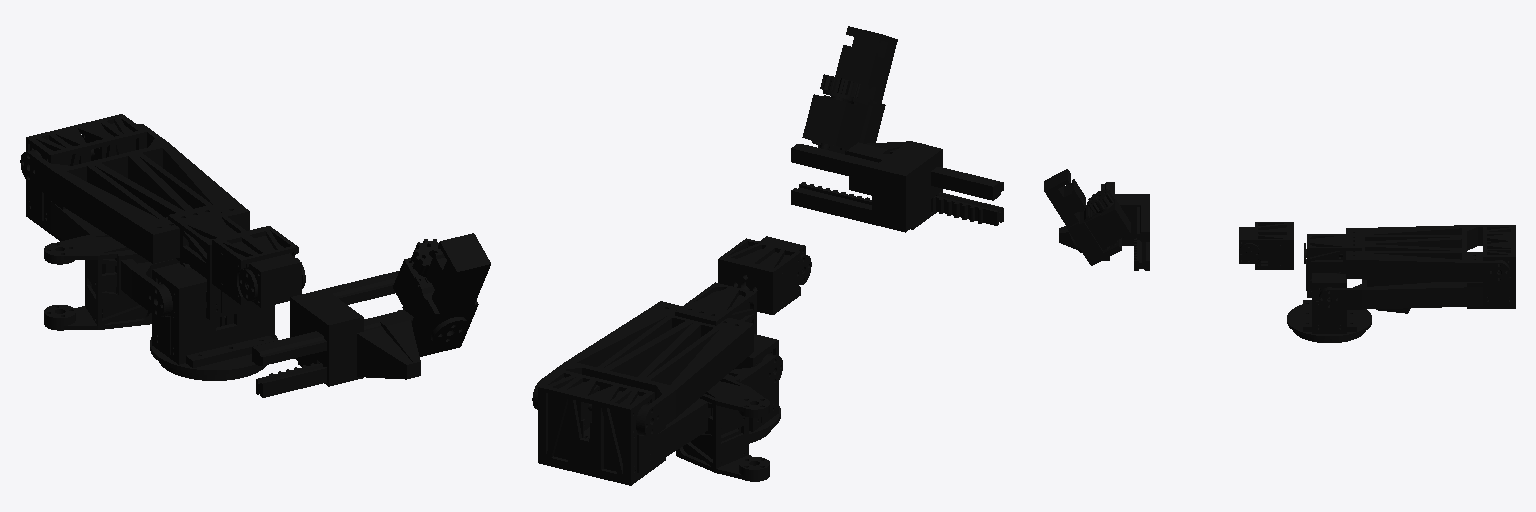
robot.urdf — MarkII_urdf:
<?xml version='1.0' encoding='utf-8'?>
<robot name="MarkII_urdf">
    <link name="base_link">
        <inertial>
            <origin xyz="0.035458480343119846 -6.348038499793762e-05 0.04884264658749845" rpy="0.0 0.0 0.0" />
            <mass value="0.39602545916549503" />
            <inertia ixx="0.0008760560529699657" iyy="0.0006208810412874053" izz="0.0008639242629666616" ixy="-3.769413947208682e-08" iyz="4.586236426702315e-07" ixz="3.627291135214919e-05" />
        </inertial>
        <visual name="base_link_visual">
            <origin xyz="0.0 0.0 0.0" rpy="0.0 0.0 0.0" />
            <geometry>
                <mesh filename="package://simple_arm/meshes/base_link.stl" scale="0.001 0.001 0.001" />
            </geometry>
            <material name="Grey">
                <color rgba="0.1 0.1 0.1 1.0"/>
            </material>
        </visual>
        <collision name="base_link_collision">
            <origin xyz="0.0 0.0 0.0" rpy="0.0 0.0 0.0" />
            <geometry>
                <mesh filename="package://simple_arm/meshes/base_link.stl" scale="0.001 0.001 0.001" />
            </geometry>
        </collision>
    </link>
    <link name="link1">
        <inertial>
            <origin xyz="-0.0002704347594735834 5.857332049775781e-07 -0.018858068132557672" rpy="0.0 -0.0 0.0" />
            <mass value="0.1693636602695217" />
            <inertia ixx="9.137448780848672e-05" iyy="0.0001313693617072285" izz="9.559017464710466e-05" ixy="2.720487576872225e-09" iyz="-1.3245744038131203e-09" ixz="-4.5903464359968467e-07" />
        </inertial>
        <visual name="link1_visual">
            <origin xyz="9.999929548684338e-05 0.03250000019207488 0.09200000000000054" rpy="-3.1415926535897687 -7.208216521456998e-29 -1.5707963267948966" />
            <geometry>
                <mesh filename="package://simple_arm/meshes/link1.stl" scale="0.001 0.001 0.001" />
            </geometry>
            <material name="Grey">
                <color rgba="0.1 0.1 0.1 1.0"/>
            </material>
        </visual>
        <collision name="link1_collision">
            <origin xyz="9.999929548684338e-05 0.03250000019207488 0.09200000000000054" rpy="-3.1415926535897687 -7.208216521456998e-29 -1.5707963267948966" />
            <geometry>
                <mesh filename="package://simple_arm/meshes/link1.stl" scale="0.001 0.001 0.001" />
            </geometry>
        </collision>
    </link>
    <link name="link2">
        <inertial>
            <origin xyz="0.03760000011651115 0.0059319951687325555 -0.11925732977137538" rpy="7.88860905221012e-31 3.421138828918011e-49 -2.430865342914509e-63" />
            <mass value="1.7169294249777958" />
            <inertia ixx="0.0038562699005716536" iyy="0.0045067967357157665" izz="0.001231930246496139" ixy="1.5872719391665013e-16" iyz="0.00039574878190694356" ixz="7.6805583598243e-10" />
        </inertial>
        <visual name="link2_visual">
            <origin xyz="0.055865511020663394 -0.05559347310728084 0.17090147772739467" rpy="-3.1415926535897745 4.634311136164061e-15 -1.5707963267949183" />
            <geometry>
                <mesh filename="package://simple_arm/meshes/link2.stl" scale="0.001 0.001 0.001" />
            </geometry>
            <material name="Grey">
                <color rgba="0.1 0.1 0.1 1.0"/>
            </material>
        </visual>
        <collision name="link2_collision">
            <origin xyz="0.055865511020663394 -0.05559347310728084 0.17090147772739467" rpy="-3.1415926535897745 4.634311136164061e-15 -1.5707963267949183" />
            <geometry>
                <mesh filename="package://simple_arm/meshes/link2.stl" scale="0.001 0.001 0.001" />
            </geometry>
        </collision>
    </link>
    <link name="link3">
        <inertial>
            <origin xyz="0.03760663634504249 -0.0067660939590704315 -0.1156116487266119" rpy="-8.758115402030109e-47 -0.0 0.0" />
            <mass value="1.4797144091482912" />
            <inertia ixx="0.0038309475265955314" iyy="0.004170136098854015" izz="0.0009512994358775587" ixy="1.5677658128827873e-07" iyz="-0.00047433748121382917" ixz="2.834555275750896e-07" />
        </inertial>
        <visual name="link3_visual">
            <origin xyz="0.01933448921196167 0.05559347362881816 0.1709014775759369" rpy="3.1415926535897922 4.708572433932446e-16 1.5707963267949163" />
            <geometry>
                <mesh filename="package://simple_arm/meshes/link3.stl" scale="0.001 0.001 0.001" />
            </geometry>
            <material name="Grey">
                <color rgba="0.1 0.1 0.1 1.0"/>
            </material>
        </visual>
        <collision name="link3_collision">
            <origin xyz="0.01933448921196167 0.05559347362881816 0.1709014775759369" rpy="3.1415926535897922 4.708572433932446e-16 1.5707963267949163" />
            <geometry>
                <mesh filename="package://simple_arm/meshes/link3.stl" scale="0.001 0.001 0.001" />
            </geometry>
        </collision>
    </link>
    <link name="link4">
        <inertial>
            <origin xyz="-0.0006856444864441169 -0.025856823701627906 -2.6584211688884806e-07" rpy="0.0 -0.0 0.0" />
            <mass value="0.39283773638319275" />
            <inertia ixx="0.00010941578075797723" iyy="7.347508926037853e-05" izz="0.0001325327378877909" ixy="-1.7442449312230109e-06" iyz="-7.706476429498124e-11" ixz="1.5926628388861376e-09" />
        </inertial>
        <visual name="link4_visual">
            <origin xyz="-0.014999999876619503 -0.07860000031563046 0.03729999895692" rpy="-1.5707963267949088 1.5707963267948775 0" />
            <geometry>
                <mesh filename="package://simple_arm/meshes/link4.stl" scale="0.001 0.001 0.001" />
            </geometry>
            <material name="Grey">
                <color rgba="0.1 0.1 0.1 1.0"/>
            </material>
        </visual>
        <collision name="link4_collision">
            <origin xyz="-0.014999999876619503 -0.07860000031563046 0.03729999895692" rpy="-1.5707963267949088 1.5707963267948775 0" />
            <geometry>
                <mesh filename="package://simple_arm/meshes/link4.stl" scale="0.001 0.001 0.001" />
            </geometry>
        </collision>
    </link>
    <link name="link5">
        <inertial>
            <origin xyz="-0.01204269022263127 4.2064875323539755e-05 0.039175653835811335" rpy="0.0 -0.0 0.0" />
            <mass value="0.608125068740914" />
            <inertia ixx="0.00021837053677050897" iyy="0.0003469179926686751" izz="0.00024081655085987988" ixy="-7.322055258983418e-09" iyz="-6.787604473096183e-08" ixz="9.749665809387996e-06" />
        </inertial>
        <visual name="link5_visual">
            <origin xyz="-0.056699999876626564 -0.03725478487650168 -0.06389999968436498" rpy="7.746581154322007e-14 -4.565358189137846e-16 1.5707963267948781" />
            <geometry>
                <mesh filename="package://simple_arm/meshes/link5.stl" scale="0.001 0.001 0.001" />
            </geometry>
            <material name="Grey">
                <color rgba="0.1 0.1 0.1 1.0"/>
            </material>
        </visual>
        <collision name="link5_collision">
            <origin xyz="-0.056699999876626564 -0.03725478487650168 -0.06389999968436498" rpy="7.746581154322007e-14 -4.565358189137846e-16 1.5707963267948781" />
            <geometry>
                <mesh filename="package://simple_arm/meshes/link5.stl" scale="0.001 0.001 0.001" />
            </geometry>
        </collision>
    </link>
    <link name="link6">
        <inertial>
            <origin xyz="0.0006080068808218275 -0.024943614181073548 0.0228980159158138" rpy="0.0 -0.0 0.0" />
            <mass value="0.4063892862705231" />
            <inertia ixx="0.0009949238078908428" iyy="0.0009620882125333137" izz="0.0001293739180438374" ixy="-6.205679234966456e-07" iyz="-8.383963299279892e-05" ixz="-1.1902565677070848e-06" />
        </inertial>
        <visual name="link6_visual">
            <origin xyz="0.0006500001233803765 -0.033158311578043026 0.07161508819313206" rpy="2.0943950946213787 2.3888183975531057e-14 -2.029786426337192e-14" />
            <geometry>
                <mesh filename="package://simple_arm/meshes/link6.stl" scale="0.001 0.001 0.001" />
            </geometry>
            <material name="Grey">
                <color rgba="0.1 0.1 0.1 1.0"/>
            </material>
        </visual>
        <collision name="link6_collision">
            <origin xyz="0.0006500001233803765 -0.033158311578043026 0.07161508819313206" rpy="2.0943950946213787 2.3888183975531057e-14 -2.029786426337192e-14" />
            <geometry>
                <mesh filename="package://simple_arm/meshes/link6.stl" scale="0.001 0.001 0.001" />
            </geometry>
        </collision>
    </link>
    <link name="link7">
        <inertial>
            <origin xyz="-0.0013815558616599333 0.02387604371038002 -0.0013645395640511505" rpy="7.888609052210118e-31 7.888609052210118e-31 0.0" />
            <mass value="0.48075191159387803" />
            <inertia ixx="0.0003033448421816805" iyy="0.00033681236170874805" izz="0.00026092351890204246" ixy="6.005328959815351e-05" iyz="-2.1428284812280153e-05" ixz="3.5039219716827687e-05" />
        </inertial>
        <visual name="link7_visual">
            <origin xyz="0.029158762475574633 0.018856031219078046 -0.0017643185282382491" rpy="-0.5235987678264844 -1.5707963267948672 0" />
            <geometry>
                <mesh filename="package://simple_arm/meshes/link7.stl" scale="0.001 0.001 0.001" />
            </geometry>
            <material name="Grey">
                <color rgba="0.1 0.1 0.1 1.0"/>
            </material>
        </visual>
        <collision name="link7_collision">
            <origin xyz="0.029158762475574633 0.018856031219078046 -0.0017643185282382491" rpy="-0.5235987678264844 -1.5707963267948672 0" />
            <geometry>
                <mesh filename="package://simple_arm/meshes/link7.stl" scale="0.001 0.001 0.001" />
            </geometry>
        </collision>
    </link>
    <link name="link8">
        <inertial>
            <origin xyz="0.036071437879573356 -0.018378160326630137 -0.030699742058770334" rpy="3.944304526105059e-31 7.888609052210118e-31 -5.551115123125783e-17" />
            <mass value="0.2562251290131406" />
            <inertia ixx="0.00028109096751540406" iyy="0.00027154537408483753" izz="5.203384545490046e-05" ixy="-3.9514768753589474e-06" iyz="-4.019479975124516e-05" ixz="-4.704225929575951e-06" />
        </inertial>
        <visual name="link8_visual">
            <origin xyz="0.040455652057477066 -0.009090003514222431 -0.03906864449898206" rpy="-2.094395094621378 1.5707963267948704 0" />
            <geometry>
                <mesh filename="package://simple_arm/meshes/link8.stl" scale="0.001 0.001 0.001" />
            </geometry>
            <material name="Grey">
                <color rgba="0.1 0.1 0.1 1.0"/>
            </material>
        </visual>
        <collision name="link8_collision">
            <origin xyz="0.040455652057477066 -0.009090003514222431 -0.03906864449898206" rpy="-2.094395094621378 1.5707963267948704 0" />
            <geometry>
                <mesh filename="package://simple_arm/meshes/link8.stl" scale="0.001 0.001 0.001" />
            </geometry>
        </collision>
    </link>
    <joint name="base_link_Revolute-1" type="continuous">
        <origin xyz="0.0325 -0.0001 0.092" rpy="3.1415926535897927 -0.0 0.0" />
        <parent link="base_link" />
        <child link="link1" />
        <axis xyz="0.0 -5.319298016155975e-16 1.0" />
    </joint>
    <joint name="link1_Revolute-3" type="revolute">
        <origin xyz="-0.038 2.1909557501587075e-17 -0.04120000000000001" rpy="-1.5707963267949014 -1.3759121115959062e-48 2.5866422738807517e-33" />
        <parent link="link1" />
        <child link="link2" />
        <axis xyz="-1 -9.86076131526265e-32 -2.91433543964095e-15" />
        <limit lower="-0.349066" upper="3.490659" effort="1000000.0" velocity="1000000.0" />
    </joint>
    <joint name="link2_Revolute-4" type="revolute">
        <origin xyz="-4.6074255521944e-16 0.028200000000000856 -0.15829999999999986" rpy="-3.141592653589788 -6.3083005994942144e-30 -3.3964013748145005e-44" />
        <parent link="link2" />
        <child link="link3" />
        <axis xyz="-0.9999999999999999 -9.860761315262648e-32 -3.1554436208840472e-30" />
        <limit lower="0.0" upper="3.403392" effort="1000000.0" velocity="1000000.0" />
    </joint>
    <joint name="link3_Revolute-5" type="continuous">
        <origin xyz="0.0376 -0.008000000000000007 -0.18960000000000002" rpy="1.5707963267948966 -6.310887241768096e-30 -3.971572354158615e-60" />
        <parent link="link3" />
        <child link="link4" />
        <axis xyz="0.0 1.0 -3.6755994903979264e-17" />
    </joint>
    <joint name="link4_Revolute-6" type="revolute">
        <origin xyz="0.0171 -0.04360000000000001 0.0" rpy="1.5707963267948966 1.1598146964900797e-46 -3.1554436208840472e-30" />
        <parent link="link4" />
        <child link="link5" />
        <axis xyz="1.0 0.0 1.6307655579902438e-16" />
        <limit lower="-1.658063" upper="1.658063" effort="1000000.0" velocity="1000000.0" />
    </joint>
    <joint name="link5_Revolute-7" type="continuous">
        <origin xyz="-0.021700000000000014 4.521999999994364e-05 0.0706" rpy="-1.570796326794897 3.1554436208840472e-30 4.598010586065825e-46" />
        <parent link="link5" />
        <child link="link6" />
        <axis xyz="0.0 1.0 -4.3859902218644406e-16" />
    </joint>
    <joint name="link6_Slider-8" type="prismatic">
        <origin xyz="-0.012099999999999944 -0.034000140000000005 0.03283129000000003" rpy="-1.5707963267948966 0.5235987755983036 1.5707963267949092" />
        <parent link="link6" />
        <child link="link7" />
        <axis xyz="1.0040277787914188e-14 1.3663471679475653e-30 0.9999999999999999" />
        <limit lower="0.0" upper="0.045" effort="1000000.0" velocity="1000000.0" />
    </joint>
    <joint name="link7_Slider-9" type="prismatic">
        <origin xyz="0.015700000000000058 -0.034000140000000005 0.03283129000000003" rpy="-1.5707963267948966 1.0471975511965943 -1.5707963267949128" />
        <parent link="link6" />
        <child link="link8" />
        <axis xyz="0 0 1" />
        <limit lower="0.045" upper="0.0" effort="1000000.0" velocity="1000000.0" />
        <mimic joint="link6_Slider-8" multiplier="1" offset="0" />
    </joint>
    <ros2_control name="MarkIIHardware" type="system">
        <hardware>
            <plugin>mark_ii_hardware_interface/MarkIIHardwareInterface</plugin>
            <param name="serial_port">/dev/ttyUSB0</param>
            <param name="baudrate">1000000</param>
        </hardware>

        <joint name="base_link_Revolute-1">
            <command_interface name="position"/>
            <state_interface name="position"/>
        </joint>
        <joint name="link1_Revolute-3">
            <command_interface name="position"/>
            <state_interface name="position"/>
        </joint>
        <joint name="link2_Revolute-4">
            <command_interface name="position"/>
            <state_interface name="position"/>
        </joint>
        <joint name="link3_Revolute-5">
            <command_interface name="position"/>
            <state_interface name="position"/>
        </joint>
        <joint name="link4_Revolute-6">
            <command_interface name="position"/>
            <state_interface name="position"/>
        </joint>
        <joint name="link5_Revolute-7">
            <command_interface name="position"/>
            <state_interface name="position"/>
        </joint>
        <joint name="link6_Slider-8">
            <command_interface name="position"/>
            <state_interface name="position"/>
        </joint>
        <joint name="link7_Slider-9">
            <state_interface name="position"/>
        </joint>
    </ros2_control>

</robot>

--- Render facts (derived) ---
Views: 3 orthographic renders of the robot side by side, from view 1: azimuth 30°, elevation 25°; view 2: azimuth 150°, elevation 25°; view 3: azimuth 270°, elevation 25°.
Model MarkII_urdf with 9 links and 8 joints (3 revolute, 3 continuous, 2 prismatic), rooted at base_link, posed every joint at zero.
Visible links, largest first — view 1: link3, link1, link7, link6, link2, link5, link4, link8; view 2: link3, link2, link7, link6, link5, link4, link8, link1; view 3: link3, link2, link6, link1, link4, link7.
Link boxes in pixels (x1,y1,x2,y2): link3: (20, 124, 251, 319); link1: (150, 263, 277, 380); link7: (290, 271, 413, 386); link6: (393, 233, 490, 356); link2: (26, 114, 179, 317); link5: (44, 233, 151, 330); link4: (212, 226, 305, 307); link8: (252, 310, 420, 397); link3: (532, 282, 756, 436); link2: (538, 355, 782, 485); link7: (791, 141, 942, 232); link6: (802, 26, 897, 153); link5: (676, 374, 769, 481); link4: (718, 236, 811, 314); link8: (845, 141, 1003, 225); link1: (733, 334, 780, 443); link3: (1304, 225, 1509, 297); link2: (1319, 225, 1515, 309); link6: (1044, 169, 1130, 265); link1: (1287, 273, 1371, 342); link4: (1239, 222, 1293, 269); link7: (1059, 194, 1149, 270).
Size in the robot's own frame: 0.1368 by 0.4399 by 0.1806 metres.
8 mesh visuals loaded from 9 distinct referenced files (8 binary STL); not drawn: 1 (reference not matched to a file when rendering).